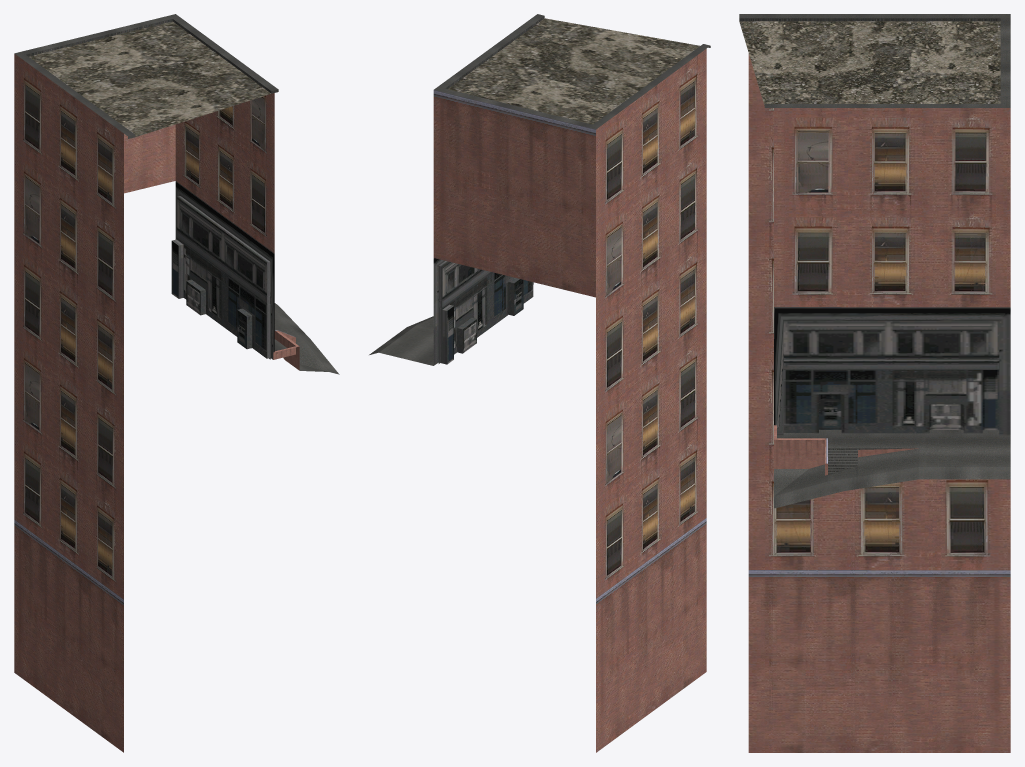
Rendered from boring_sfe.obj.
3 views of the same model, side by side, from view 1: azimuth 30°, elevation 25°; view 2: azimuth 150°, elevation 25°; view 3: azimuth 270°, elevation 25° (orthographic). The views are drawn at different scales.
Visible parts, largest first — view 1: boring_sfe; view 2: boring_sfe; view 3: boring_sfe.
Part boxes in pixels (x1,y1,x2,y2): boring_sfe: [14, 14, 339, 752]; boring_sfe: [369, 14, 710, 752]; boring_sfe: [739, 14, 1010, 752].
Bounding box in the file's own units: 25.79 × 67.46 × 22.47.
Materials: 5 (5 with a texture image).
